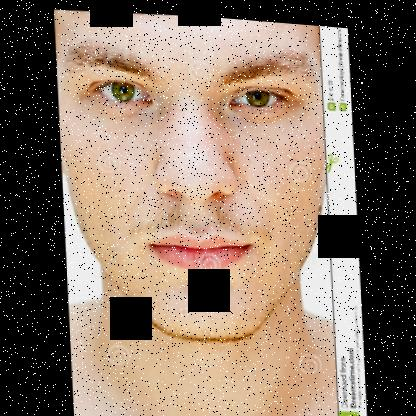Male: (53, 3, 336, 345)
